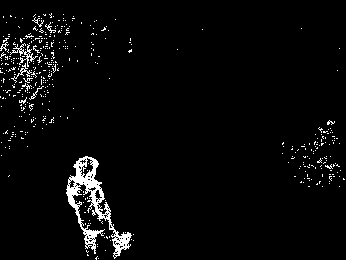person: (65, 154, 133, 260)
